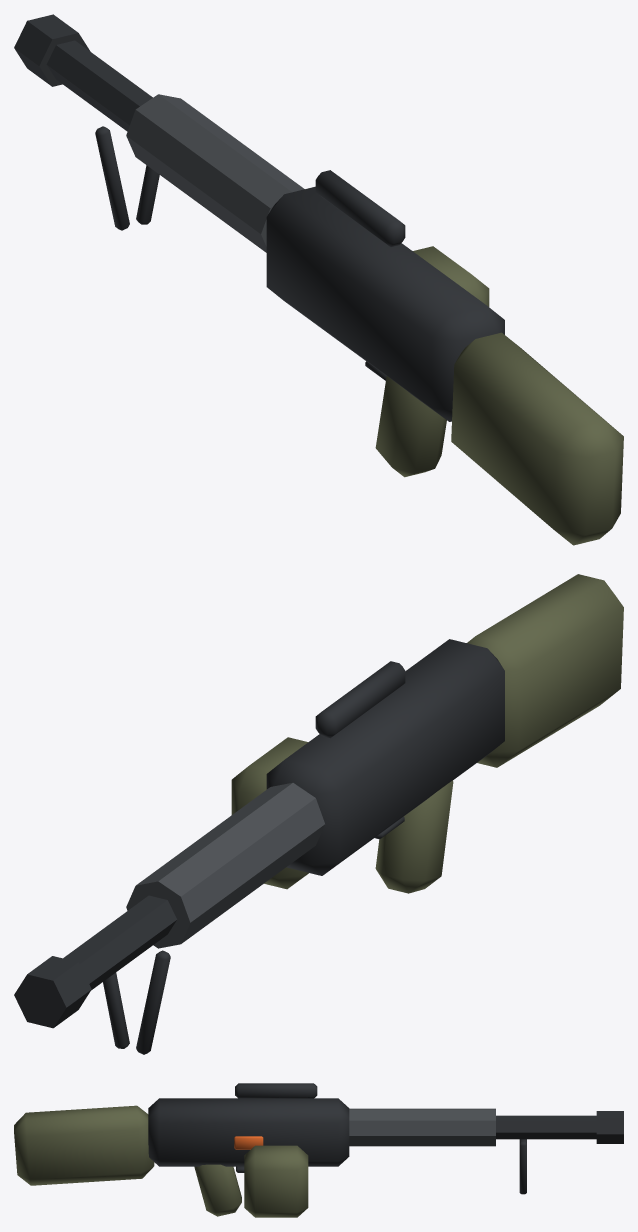
The model's file is weapon_mg.glb.
3 views of the same model, one above another, from view 1: azimuth 30°, elevation 25°; view 2: azimuth 150°, elevation 25°; view 3: azimuth 270°, elevation 25° (orthographic). The views are drawn at different scales.
Parts seen in each view (by area): view 1: weapon_mg; view 2: weapon_mg; view 3: weapon_mg.
Boxes of the visible parts, x1,y1,x2,y2 form: weapon_mg: (14,14,623,545); weapon_mg: (14,574,623,1054); weapon_mg: (14,1083,623,1217).
Size of the model in its own units: 0.125 by 0.1953 by 0.8333.
Materials: 1 (1 with a texture image).
